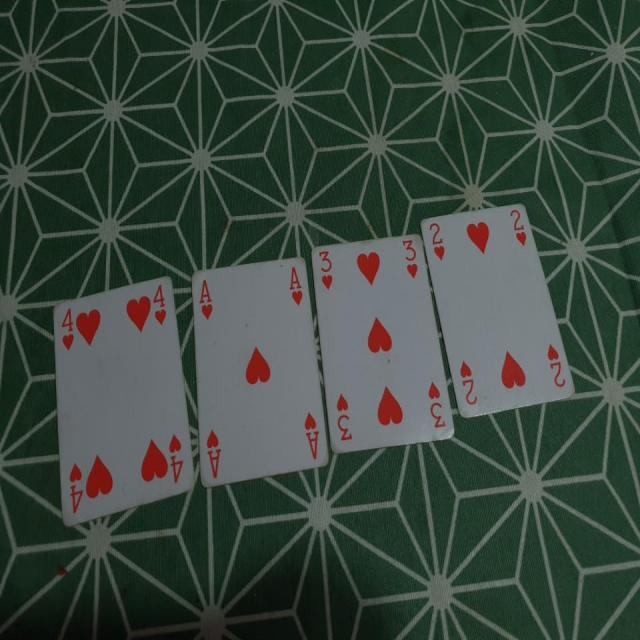2 Hearts: (419, 201, 578, 432)
3 Hearts: (305, 232, 460, 460)
4 Hearts: (52, 271, 197, 534)
A Hearts: (191, 252, 334, 489)
